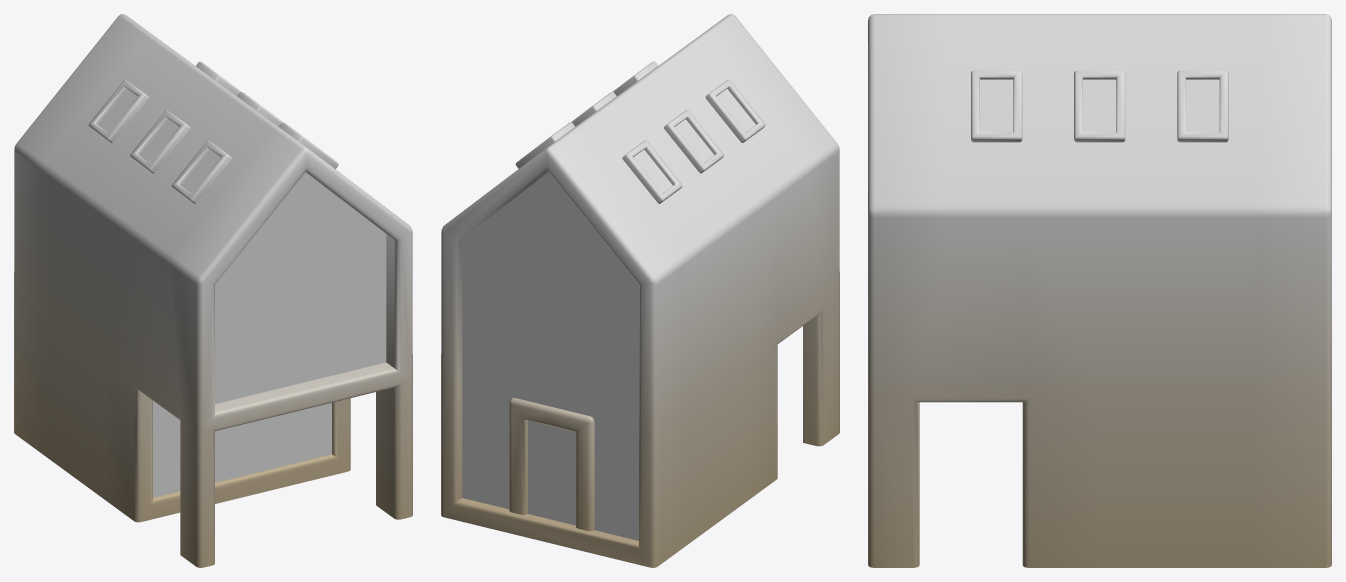
The model's file is NF_Bld_House 12.fbx.
3 renders of one model, left to right at view 1: azimuth 30°, elevation 25°; view 2: azimuth 150°, elevation 25°; view 3: azimuth 270°, elevation 25°, orthographic. The views are drawn at different scales.
Visible parts, largest first — view 1: House_47; view 2: House_47; view 3: House_47.
Boxes of the visible parts, <box> form: House_47: <box>14,14,412,567</box>; House_47: <box>441,14,839,567</box>; House_47: <box>868,14,1331,567</box>.
Bounding box in the file's own units: 6 × 10.45 × 9.
